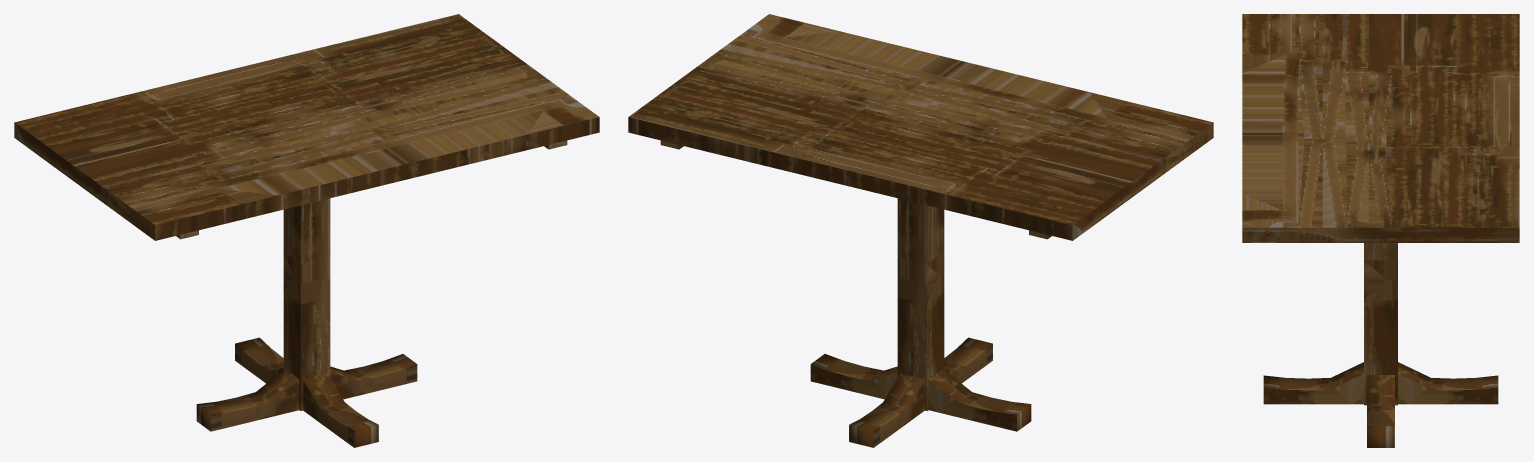
The model's file is Square Table.fbx.
3 renders of one model, left to right at view 1: azimuth 30°, elevation 25°; view 2: azimuth 150°, elevation 25°; view 3: azimuth 270°, elevation 25°, orthographic.
Visible parts, largest first — view 1: Cube.190; view 2: Cube.190; view 3: Cube.190.
Boxes of the visible parts, left/top/right/bottom form: Cube.190: left=14, top=14, right=599, bottom=447; Cube.190: left=628, top=14, right=1213, bottom=447; Cube.190: left=1242, top=14, right=1519, bottom=447.
Size of the model in its own units: 200 by 121 by 110.
